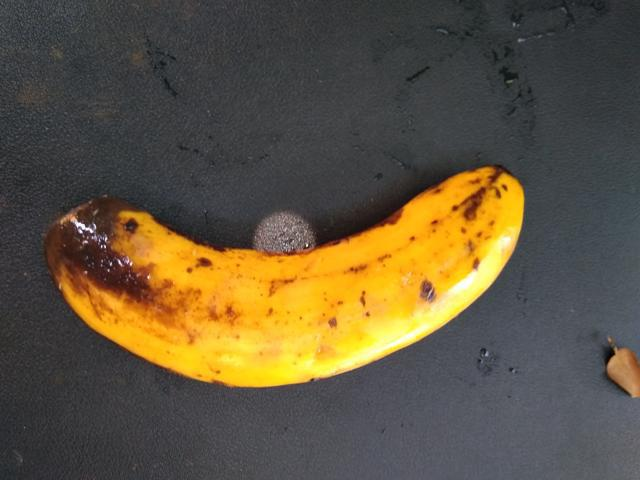overripe: (199, 158, 543, 407)
rotten: (21, 185, 265, 391)
